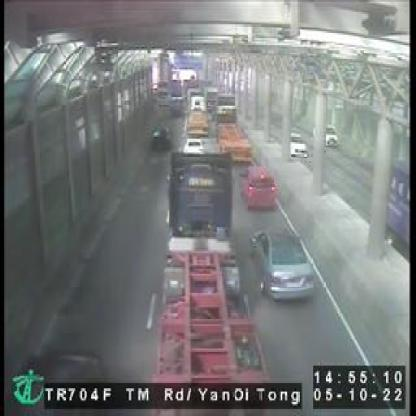Car: (248, 229, 315, 300), (239, 170, 277, 208), (312, 121, 341, 146), (150, 125, 171, 147), (288, 130, 306, 154), (182, 137, 204, 151)
Truck: (155, 151, 273, 411), (216, 106, 251, 163), (186, 95, 208, 132)
